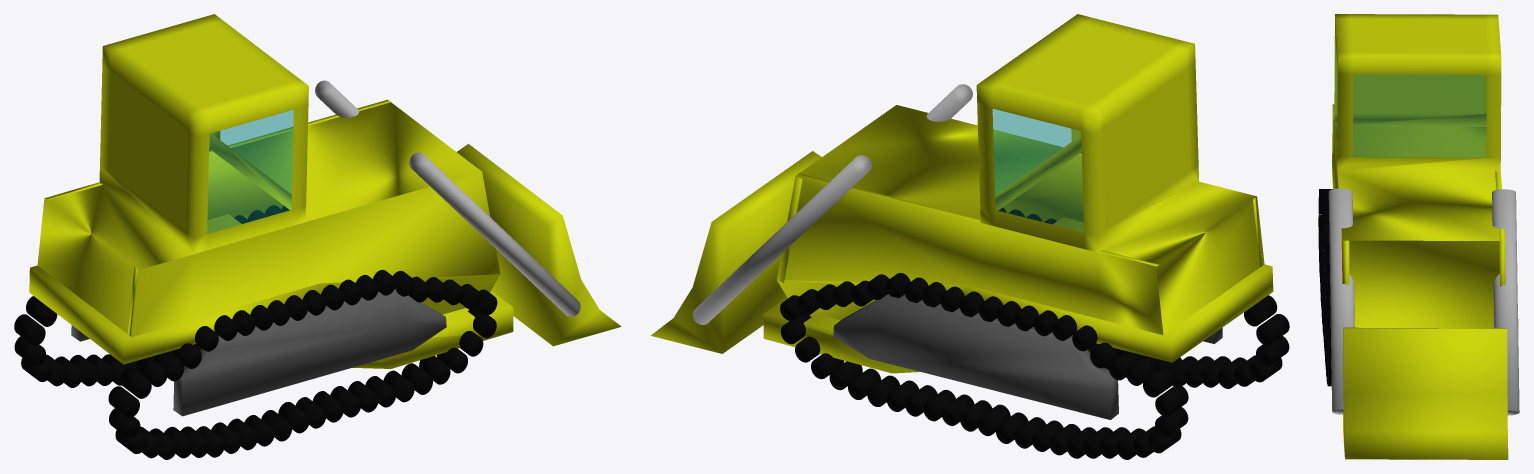
Rendered from heavy_equipment_3.fbx.
The picture shows the model from 3 angles, left to right: view 1: azimuth 30°, elevation 25°; view 2: azimuth 150°, elevation 25°; view 3: azimuth 270°, elevation 25°; orthographic projection. The views are drawn at different scales.
Parts seen in each view (by area): view 1: Plane; view 2: Plane; view 3: Plane.
Boxes of the visible parts, bbox=[...] form: Plane: bbox=[14, 14, 621, 459]; Plane: bbox=[650, 14, 1289, 459]; Plane: bbox=[1318, 14, 1519, 459].
Size of the model in its own units: 307 by 194 by 123.
